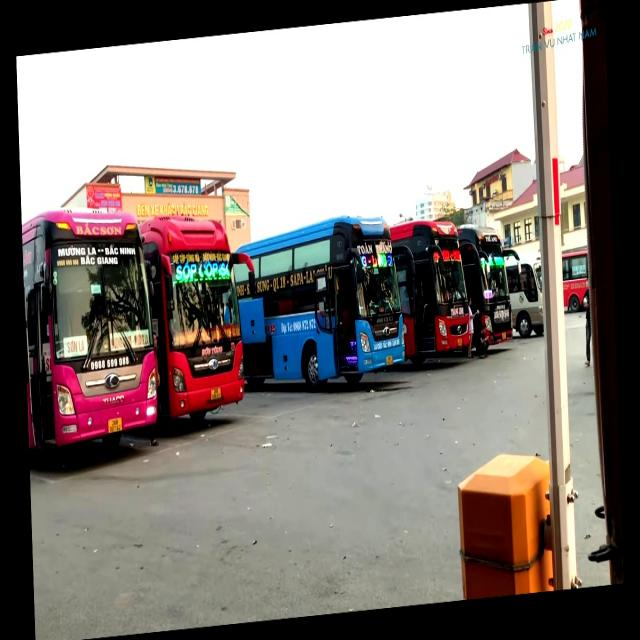bien_vang: (108, 416, 123, 433), (210, 386, 220, 401)
